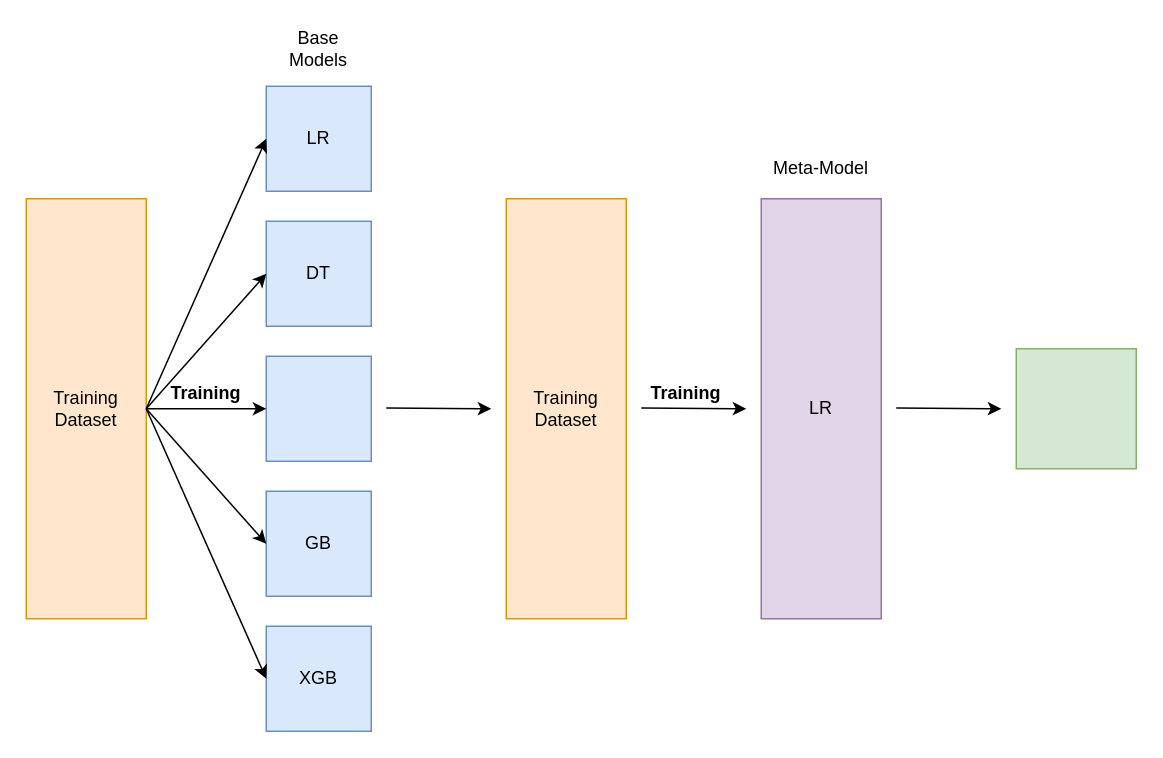
This 1163x758 diagram has some shape labels left out. The centre of each missing label's shape, as x and y in pixels:
"Final Predictions" goes at pixel 1075 408.
"RF" goes at pixel 318 408.
